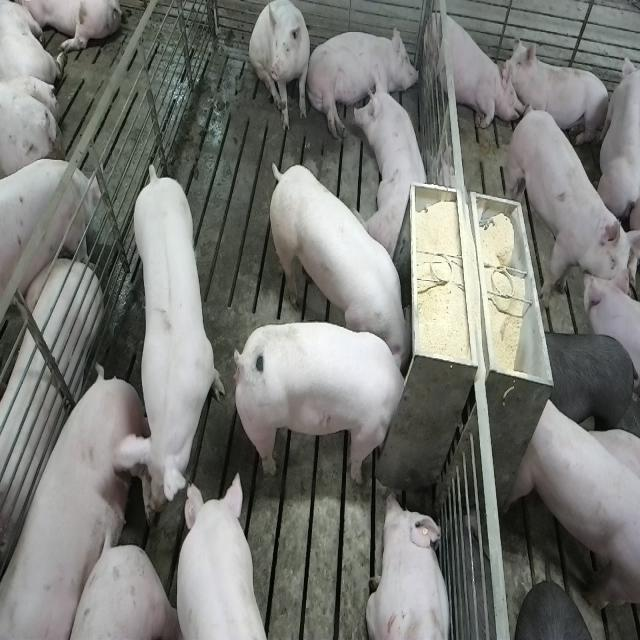Feeding: (264, 160, 412, 372), (229, 320, 409, 483)
Lateral_lying: (0, 368, 153, 639), (0, 256, 102, 585), (307, 24, 419, 140)
Sitting: (424, 3, 513, 135), (249, 2, 312, 134)
Standing: (122, 164, 223, 524), (508, 394, 639, 613), (504, 109, 636, 319), (0, 160, 98, 347), (169, 472, 271, 640), (541, 328, 637, 438)
Sternal_lying: (356, 72, 432, 258), (366, 490, 453, 640), (504, 38, 610, 150)
